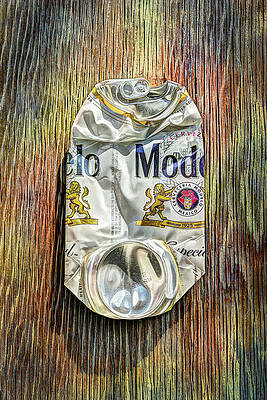can: (63, 77, 206, 320)
